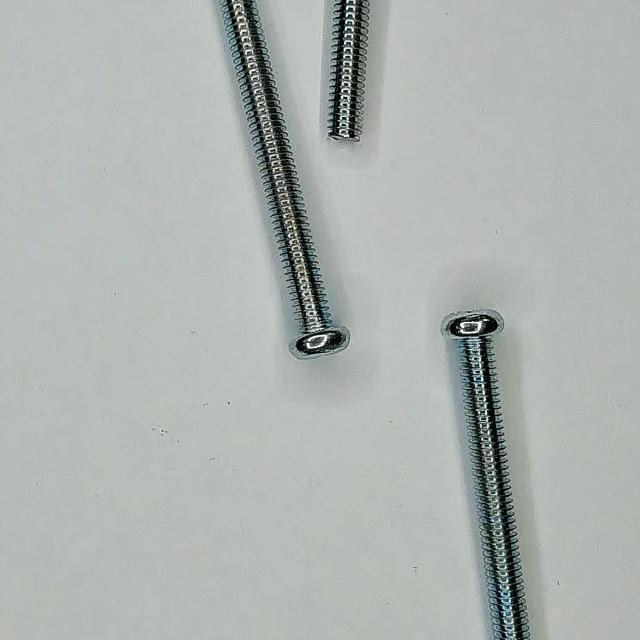Screw: (222, 0, 351, 359), (443, 311, 531, 640), (329, 0, 370, 142)
